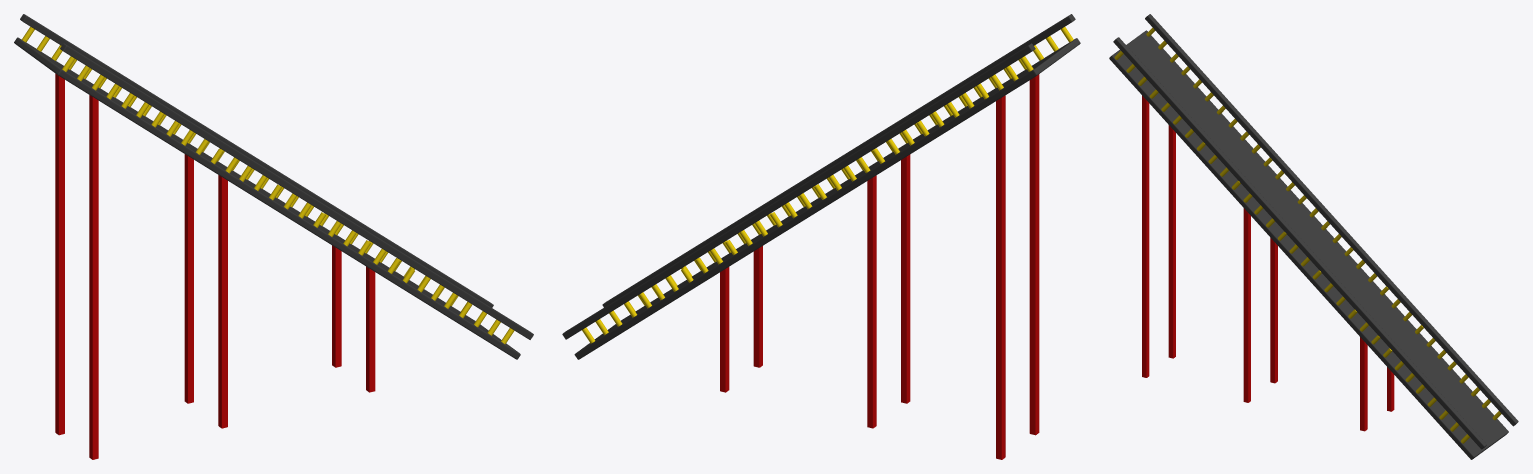
Rendered from Env_Ramp_Mo_Nov19.fbx.
The picture shows the model from 3 angles, left to right: view 1: azimuth 30°, elevation 25°; view 2: azimuth 150°, elevation 25°; view 3: azimuth 330°, elevation 25°; orthographic projection. The views are drawn at different scales.
Visible parts, largest first — view 1: Ramp, RampHandle1, RampSupport7, RampSupport6, RampHandle2, RampSupport3, RampSupport4, RampSupport1, RampSupport2; view 2: Ramp, RampHandle2, RampSupport7, RampSupport6, RampHandle1, RampSupport4, RampSupport3, RampSupport2, RampSupport1; view 3: Ramp, RampHandle1, RampHandle2, RampSupport7, RampSupport6, RampSupport3, RampSupport4, RampSupport1.
Boxes of the visible parts, x1=… form: Ramp: x1=14, y1=37, x2=520, y2=359; RampHandle1: x1=60, y1=43, x2=533, y2=339; RampSupport7: x1=89, y1=95, x2=98, y2=459; RampSupport6: x1=55, y1=73, x2=64, y2=435; RampHandle2: x1=20, y1=14, x2=493, y2=307; RampSupport3: x1=218, y1=175, x2=227, y2=428; RampSupport4: x1=184, y1=154, x2=193, y2=403; RampSupport1: x1=366, y1=266, x2=375, y2=392; RampSupport2: x1=332, y1=245, x2=341, y2=367; Ramp: x1=574, y1=38, x2=1080, y2=359; RampHandle2: x1=562, y1=43, x2=1035, y2=339; RampSupport7: x1=1029, y1=74, x2=1039, y2=435; RampSupport6: x1=996, y1=95, x2=1005, y2=459; RampHandle1: x1=602, y1=14, x2=1075, y2=307; RampSupport4: x1=867, y1=175, x2=876, y2=428; RampSupport3: x1=901, y1=154, x2=910, y2=403; RampSupport2: x1=720, y1=267, x2=729, y2=392; RampSupport1: x1=753, y1=246, x2=762, y2=367; Ramp: x1=1109, y1=30, x2=1508, y2=459; RampHandle1: x1=1113, y1=37, x2=1486, y2=449; RampHandle2: x1=1145, y1=14, x2=1518, y2=426; RampSupport7: x1=1142, y1=95, x2=1149, y2=377; RampSupport6: x1=1168, y1=125, x2=1175, y2=358; RampSupport3: x1=1243, y1=208, x2=1250, y2=402; RampSupport4: x1=1270, y1=238, x2=1277, y2=383; RampSupport1: x1=1360, y1=337, x2=1367, y2=431.
Size of the model in its own units: 76.93 by 65.5 by 12.41.
